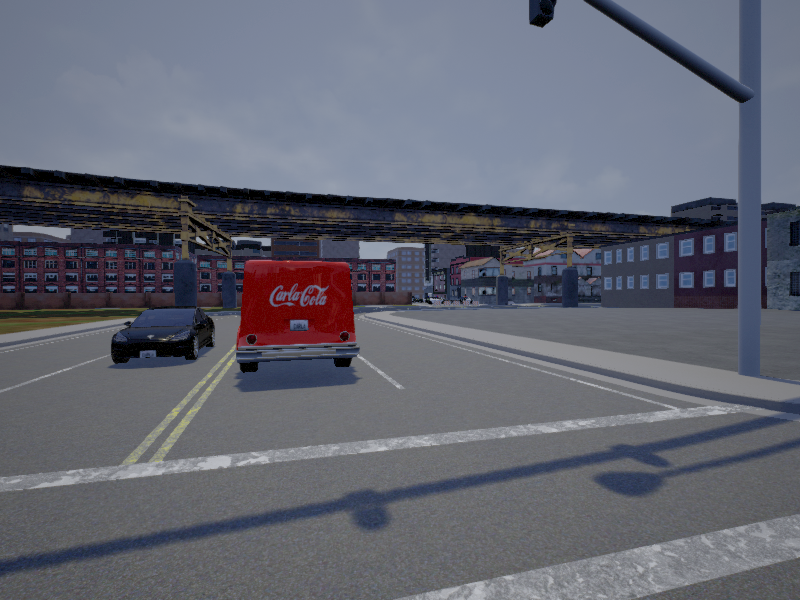Benign: (233, 260, 357, 368), (112, 308, 216, 359)
